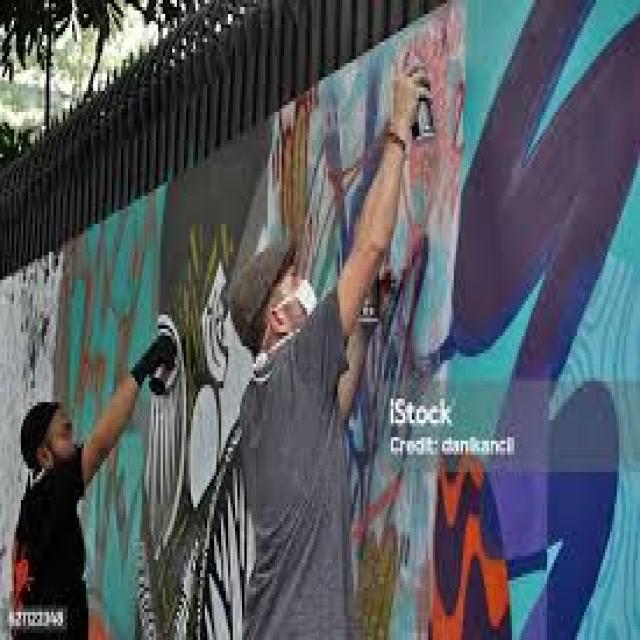-: (433, 0, 640, 640), (270, 0, 438, 640), (137, 126, 270, 640), (55, 185, 164, 640)
